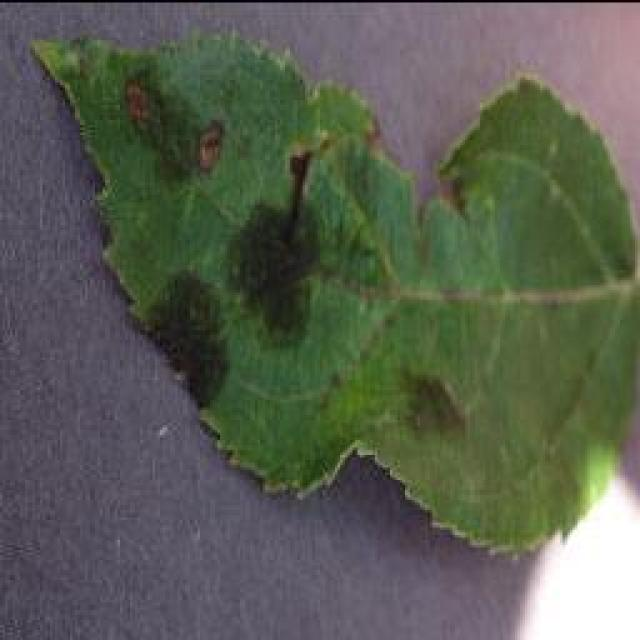Apple___Apple_scab: (25, 18, 637, 559)
